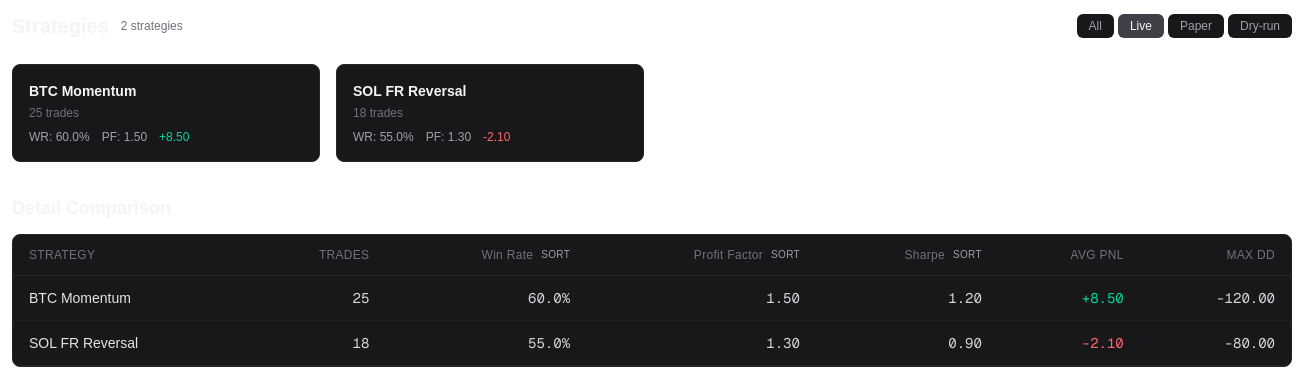
Test: Strategies Page — extended › shows sort indicators on headers
Check: the text "SORT" is shown 3 times, box [541,248,570,262]; [771,248,800,262]; [953,248,982,262]
Click the button labelled "Sharpe SORT" at (943, 255), box [905,247,982,263]
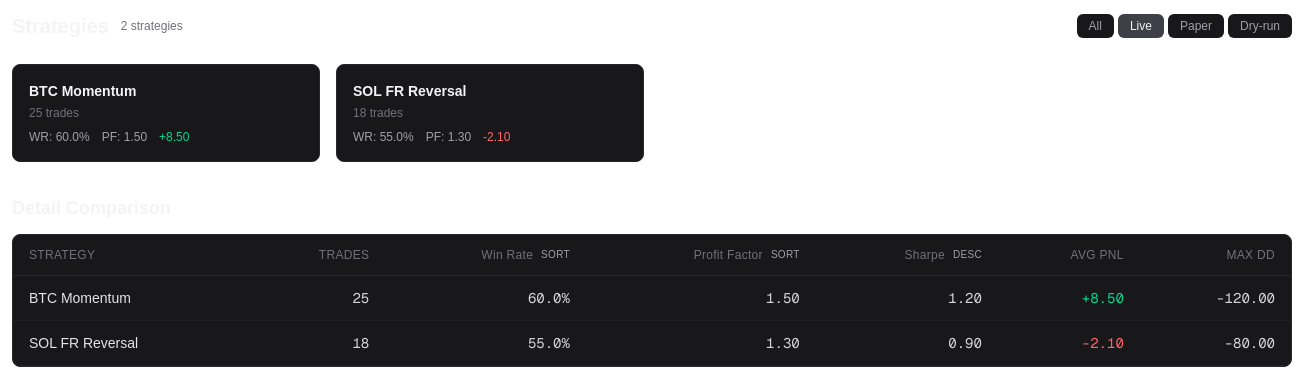
Check: the text "SORT" is shown 2 times, box [541,248,570,262]; [771,248,800,262]
Check: the text "DESC" is shown, box [953,248,982,262]
